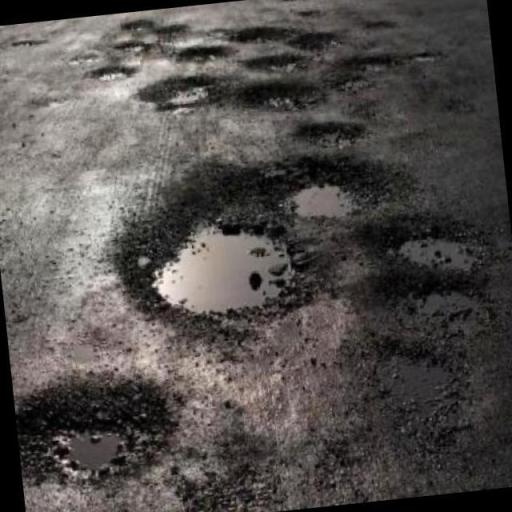pothole: (15, 373, 172, 487), (151, 227, 292, 315), (393, 228, 491, 282), (135, 75, 220, 114), (287, 186, 364, 219), (235, 83, 329, 110), (294, 121, 367, 153)
